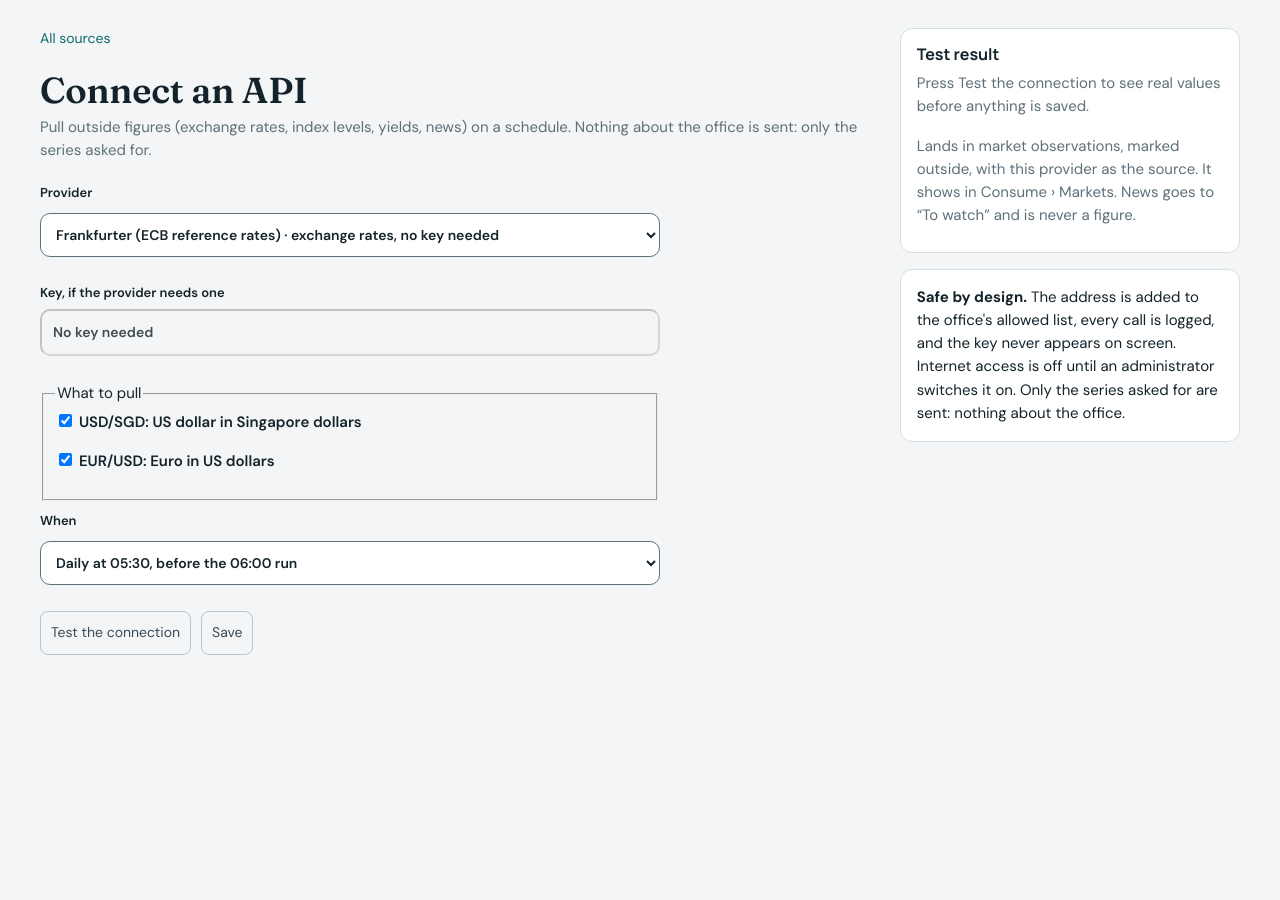
test shows real rows with timing, and Save sends the provider and series only
The image size is (1280, 900).
Click the button "Test the connection".
click(116, 633)  # box 40,611 -> 191,655
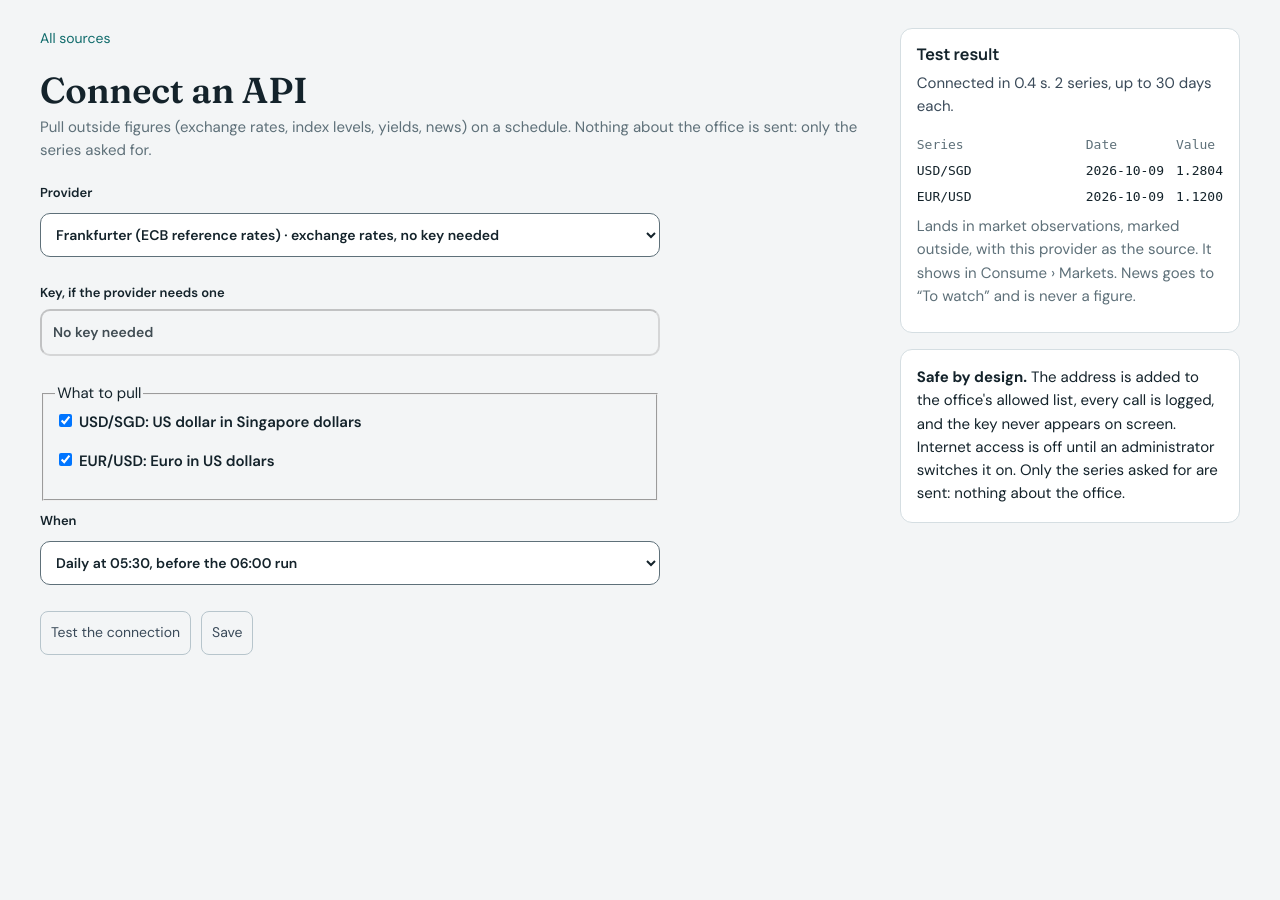
Result: the text "Connected in 0.4 s. 2 series, up to 30 days each." is shown at 917,72 -> 1223,119
Result: the text "1.2804" is shown at 1176,161 -> 1223,181
Click the button "Save".
click(227, 633)  # box 201,611 -> 254,655
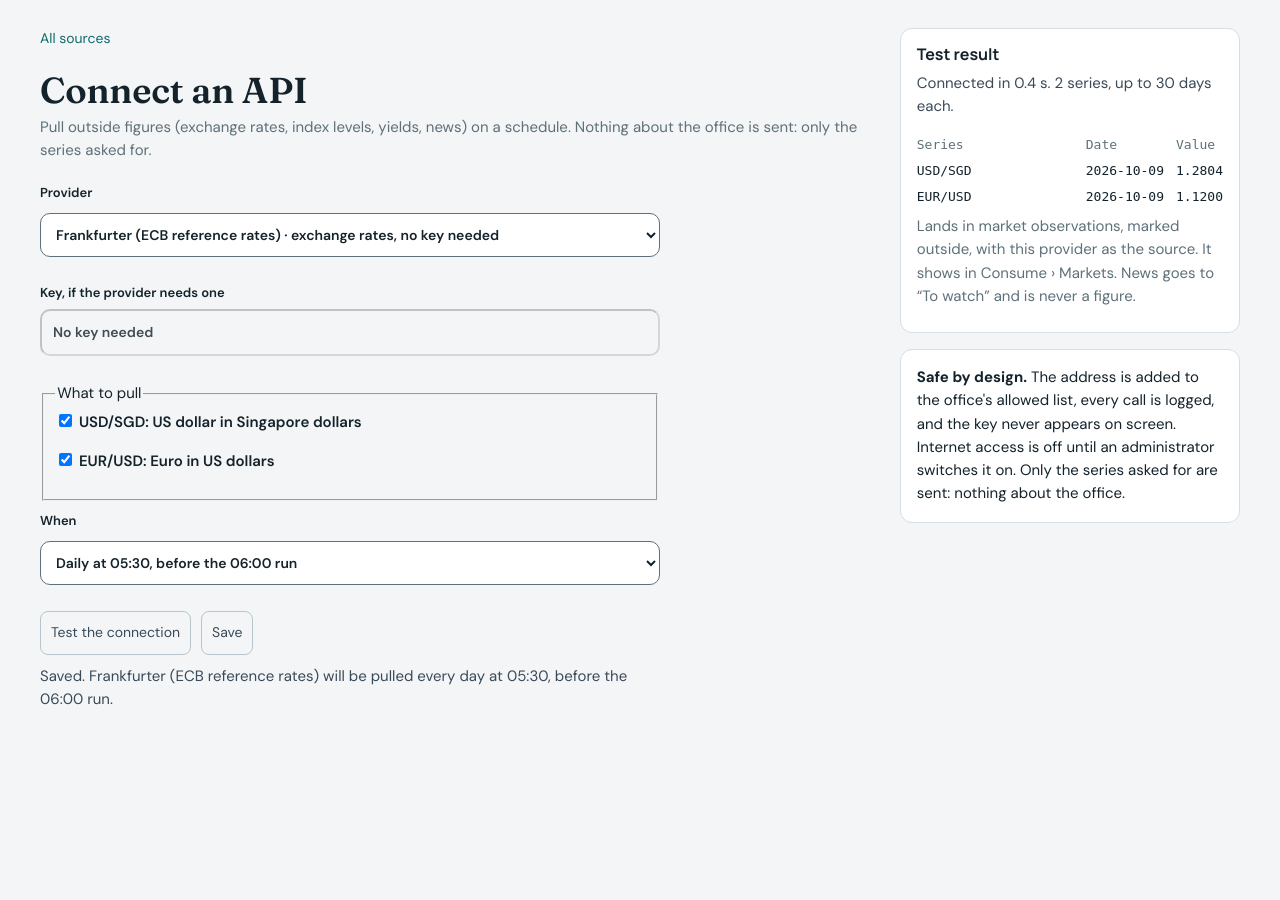
Result: the text "every day at 05:30, before the 06:00 run" is shown at 40,666 -> 627,709
